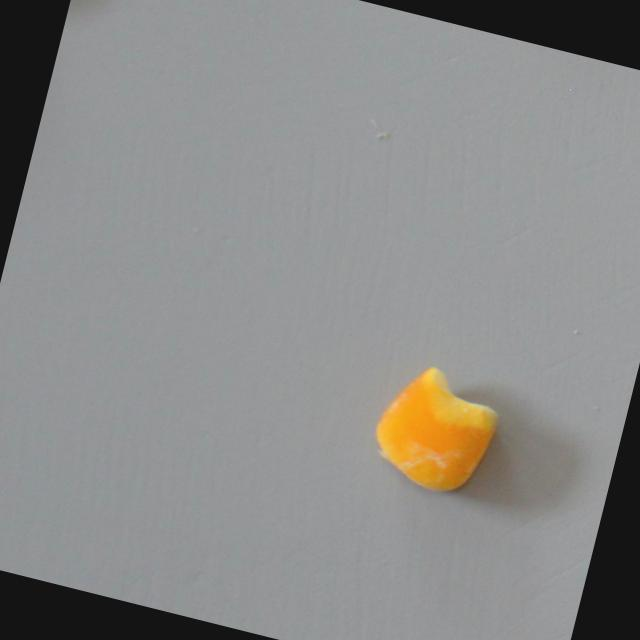dañado: (359, 350, 513, 511)
